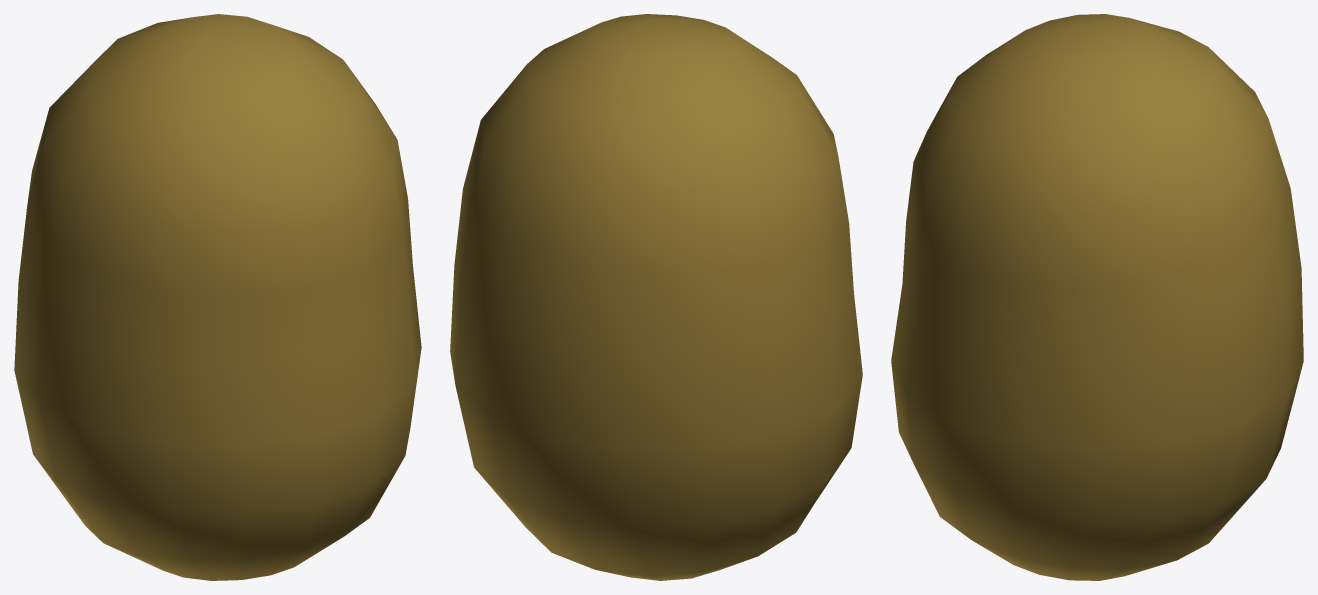
File: tudou.fbx
The picture shows the model from 3 angles, left to right: view 1: azimuth 30°, elevation 25°; view 2: azimuth 150°, elevation 25°; view 3: azimuth 270°, elevation 25°; orthographic projection.
Parts seen in each view (by area): view 1: Fruits_and_vegetables_4; view 2: Fruits_and_vegetables_4; view 3: Fruits_and_vegetables_4.
Boxes of the visible parts, box(x1,y1,x2,y2) form: Fruits_and_vegetables_4: box(14, 14, 421, 580); Fruits_and_vegetables_4: box(450, 14, 862, 580); Fruits_and_vegetables_4: box(891, 14, 1303, 580).
Size of the model in its own units: 24.86 by 34.96 by 24.86.
